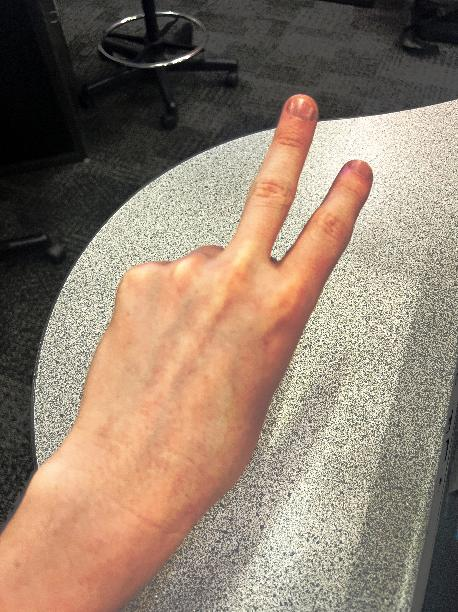Scissors: (58, 67, 393, 525)
